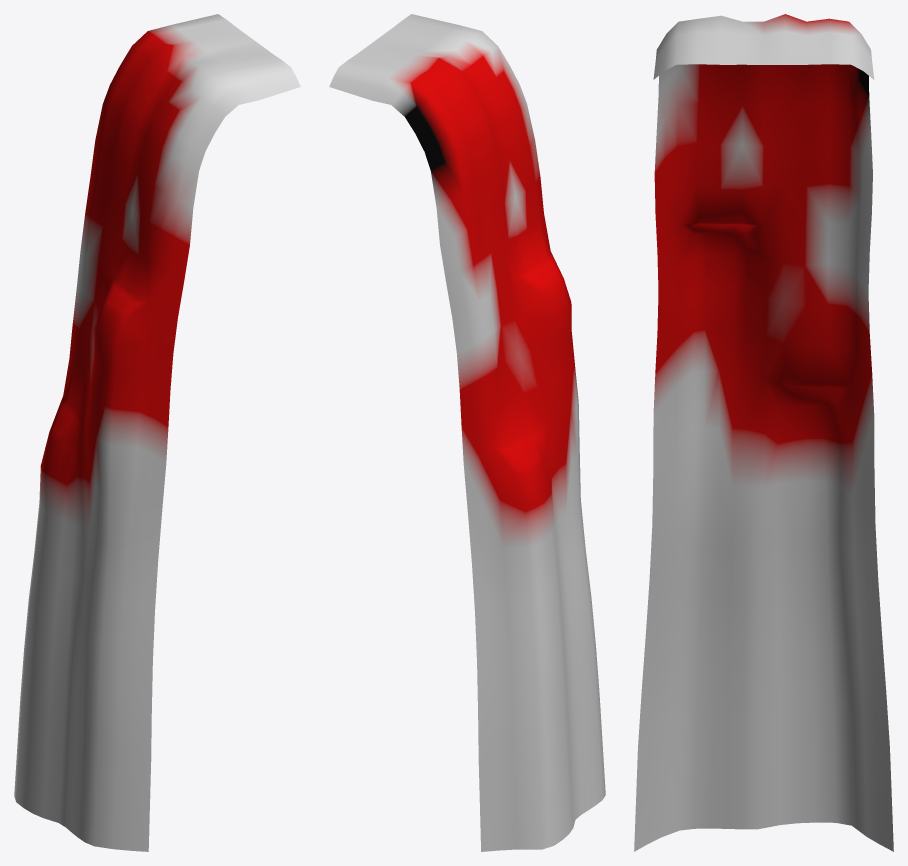
3 views of the same model, side by side, from view 1: azimuth 30°, elevation 25°; view 2: azimuth 150°, elevation 25°; view 3: azimuth 270°, elevation 25° (orthographic). The views are drawn at different scales.
Visible parts, largest first — view 1: SM_Waterfall_LOD0; view 2: SM_Waterfall_LOD0; view 3: SM_Waterfall_LOD0.
Boxes of the visible parts, bbox=[...] form: SM_Waterfall_LOD0: bbox=[14, 14, 300, 851]; SM_Waterfall_LOD0: bbox=[329, 14, 605, 851]; SM_Waterfall_LOD0: bbox=[634, 14, 893, 851].
Size of the model in its own units: 261 by 233 by 881.
